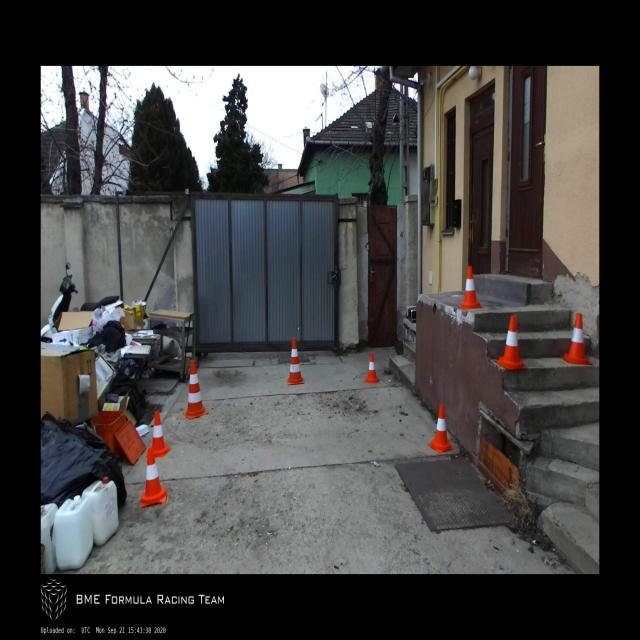large_orange_cone: (182, 360, 208, 419), (287, 338, 304, 384)
orange_cone: (494, 314, 527, 369), (140, 448, 167, 506), (561, 314, 591, 364), (427, 403, 454, 452), (146, 411, 171, 457), (459, 266, 482, 309), (364, 352, 380, 382)
